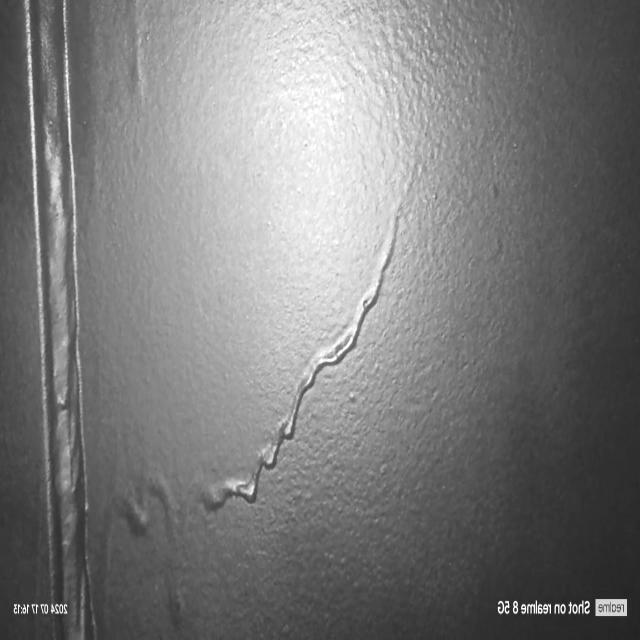paint drips: (92, 180, 417, 640)
